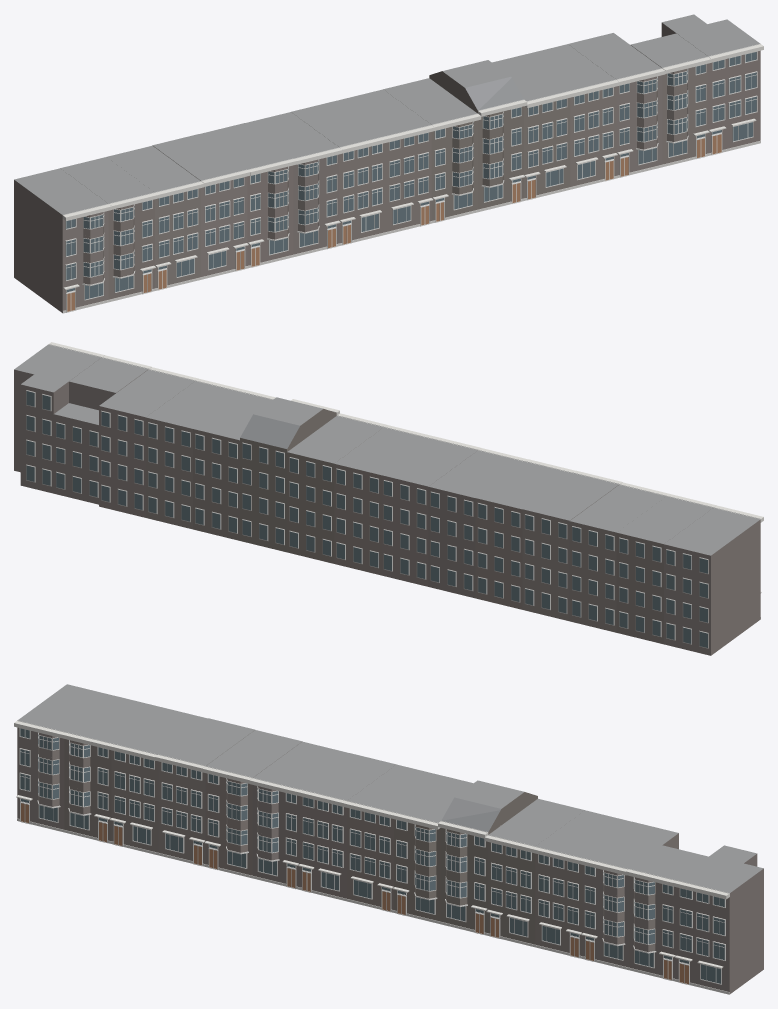
File: chunk-face-hoendiep-2-60-r1.glb
3 renders of one model, top to bottom at view 1: azimuth 30°, elevation 25°; view 2: azimuth 150°, elevation 25°; view 3: azimuth 330°, elevation 25°, orthographic. The views are drawn at different scales.
Visible parts, largest first — view 1: face-hoendiep-2-60-r1; view 2: face-hoendiep-2-60-r1; view 3: face-hoendiep-2-60-r1.
Part boxes in pixels (left/top/right/bottom): face-hoendiep-2-60-r1: left=14, top=14, right=763, bottom=313; face-hoendiep-2-60-r1: left=14, top=342, right=763, bottom=655; face-hoendiep-2-60-r1: left=14, top=684, right=763, bottom=994.
Bounding box in the file's own units: 92.29 × 14.49 × 11.96.
